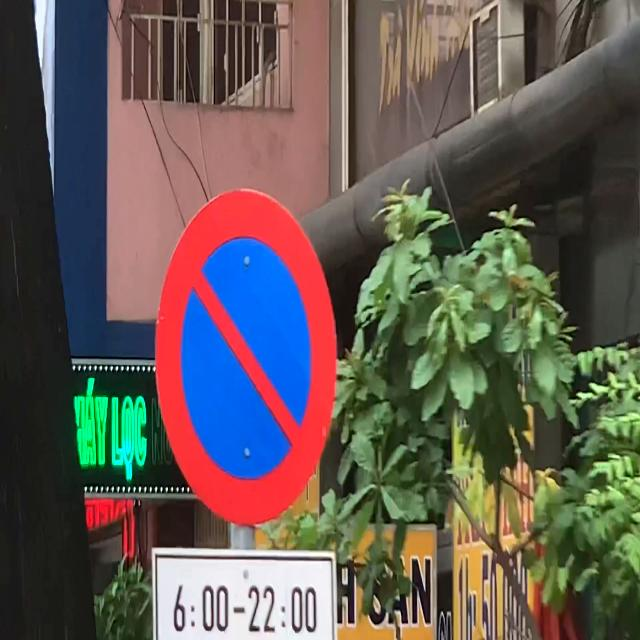P.131a: (153, 187, 338, 529)
